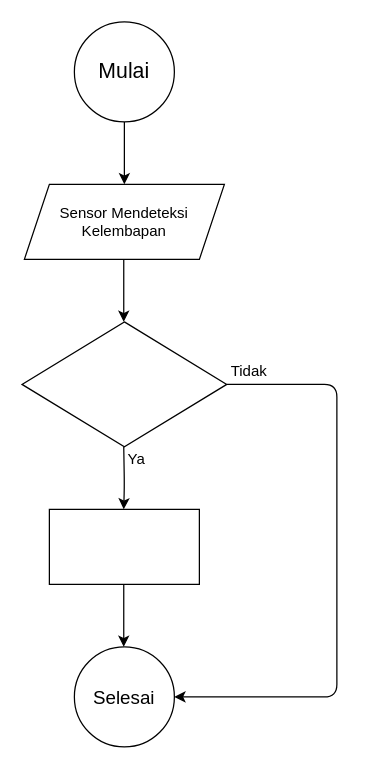
This 369x769 diagram has some shape labels left out. Each missing label, with the centre of its shape:
Kelembapan Udara > 90%: the point at 124,384
Kipas Menyala: the point at 123,546
